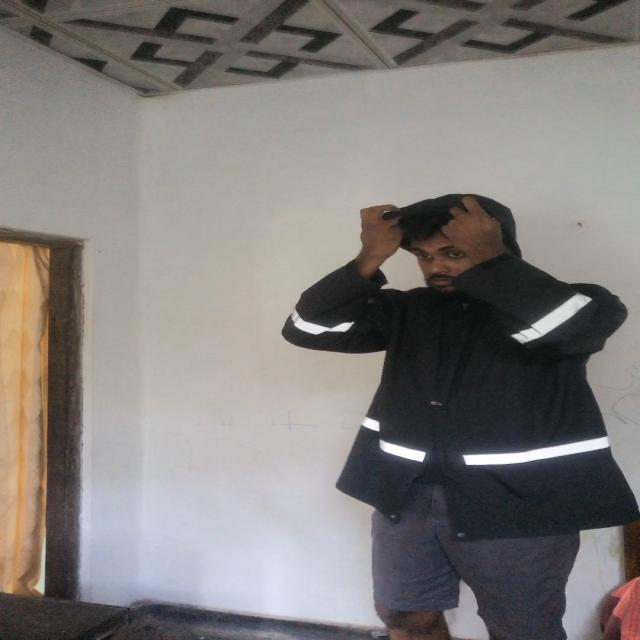Jacket_Wearer: (288, 192, 640, 534)
